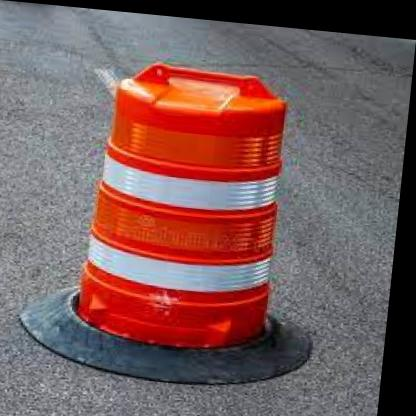obstacle: (67, 55, 299, 357)
